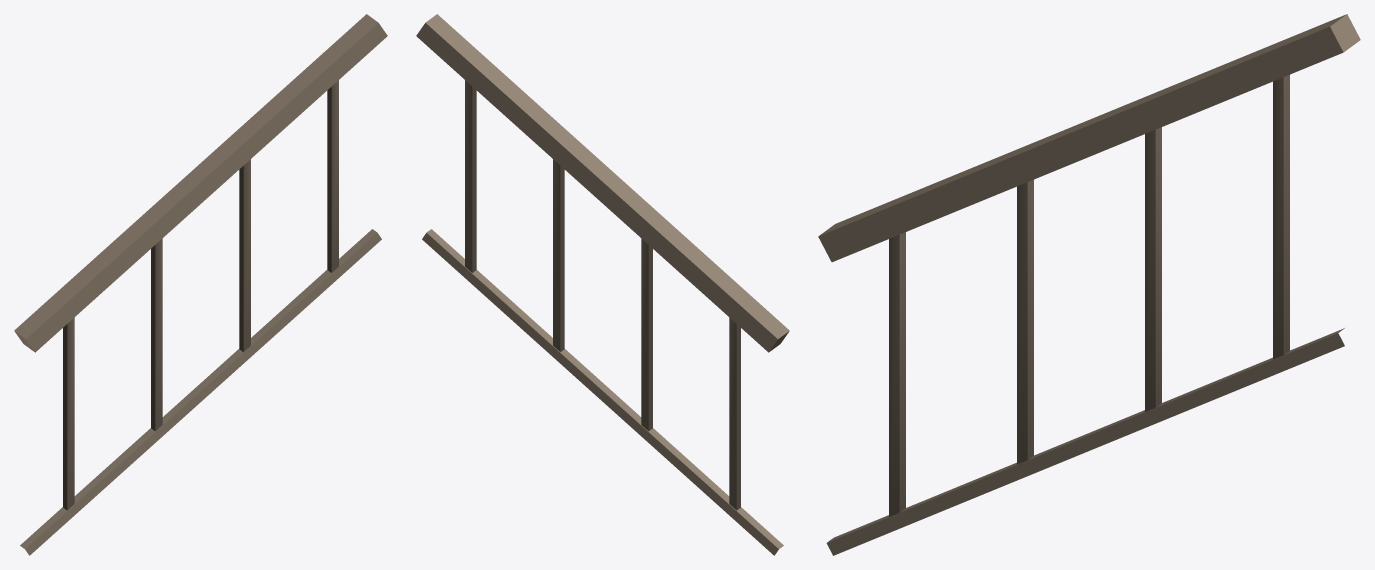
File: sg_rail_flight.glb
The picture shows the model from 3 angles, left to right: view 1: azimuth 30°, elevation 25°; view 2: azimuth 150°, elevation 25°; view 3: azimuth 330°, elevation 25°; orthographic projection. The views are drawn at different scales.
Visible parts, largest first — view 1: sg_rail_flight_SG_Joinery; view 2: sg_rail_flight_SG_Joinery; view 3: sg_rail_flight_SG_Joinery.
Boxes of the visible parts, x1,y1,x2,y2 form: sg_rail_flight_SG_Joinery: (14,14,387,555); sg_rail_flight_SG_Joinery: (416,14,789,555); sg_rail_flight_SG_Joinery: (818,14,1360,555).
Size of the model in its own units: 1.23 by 1.47 by 0.07.
